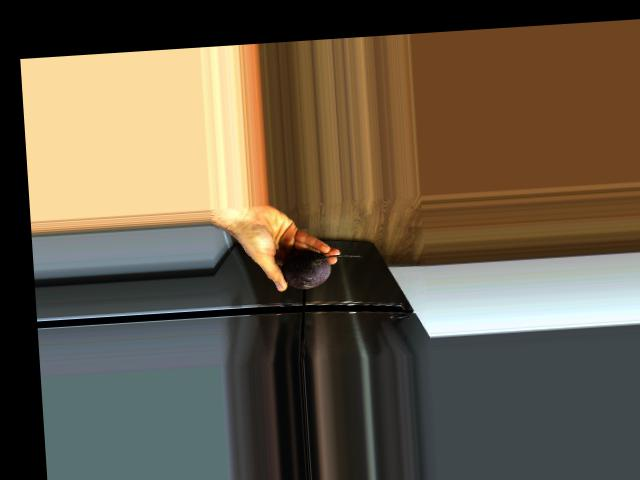beet: (281, 247, 364, 290)
